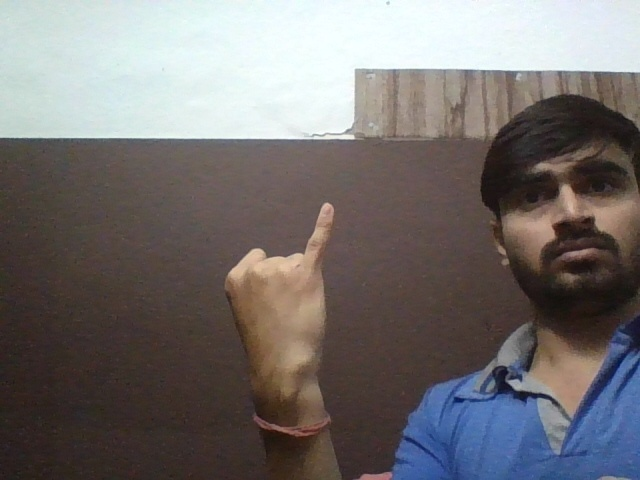J: (215, 201, 355, 385)
